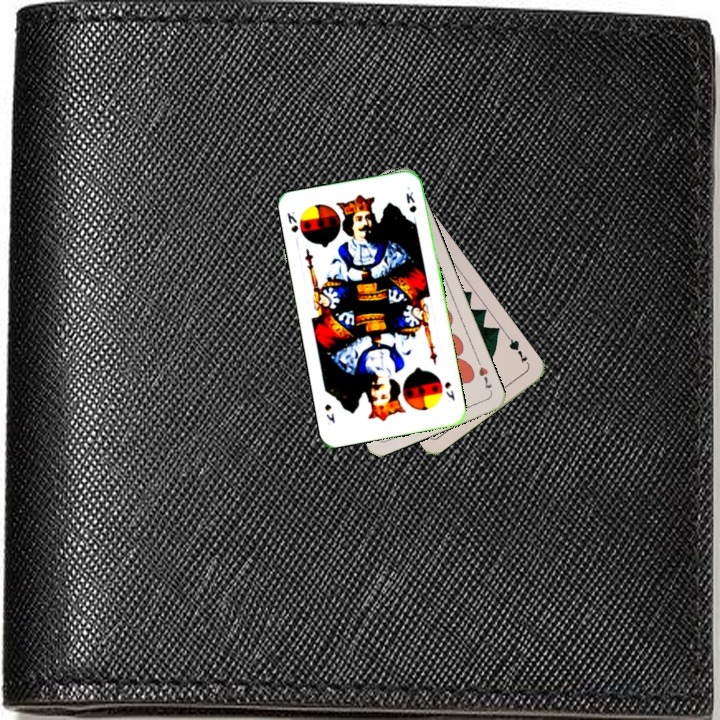G7: (503, 333, 532, 368)
H7: (473, 356, 495, 391)
SK: (283, 207, 301, 235), (440, 378, 457, 403)
